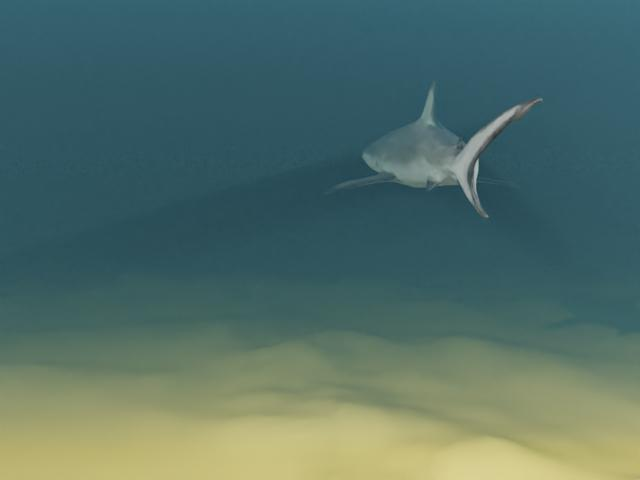Carribean Shark.001: (322, 81, 541, 218)
